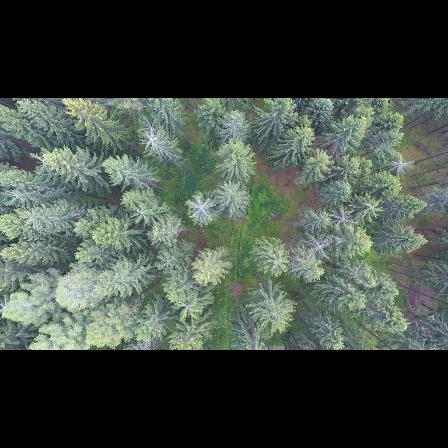Sick: (136, 119, 168, 152), (184, 192, 217, 222), (328, 203, 360, 231), (384, 152, 416, 178), (303, 234, 335, 258)
